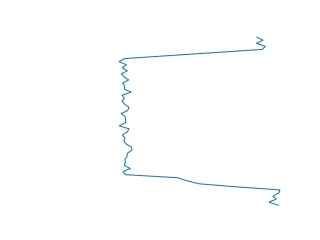distributaryChannelFill: (114, 37, 287, 207)
